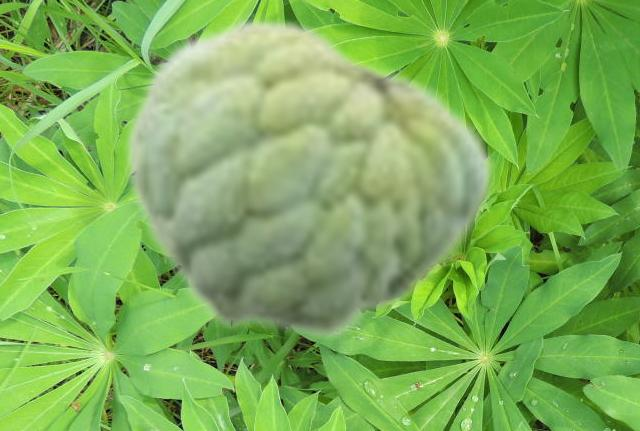atis: (121, 13, 493, 342)
